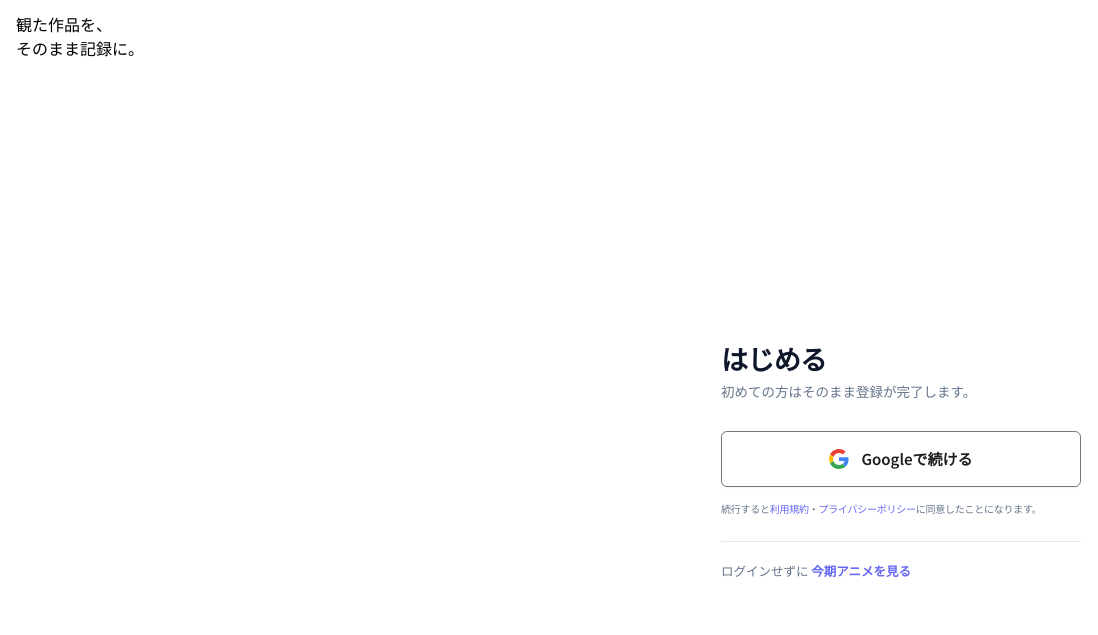
Test: SignInPage › 失敗時はエラーを表示し、再操作できる状態に戻す
This screenshot has width=1098, height=635.
Click the button "Googleで続ける".
click(901, 459)  # box [721,431,1081,487]
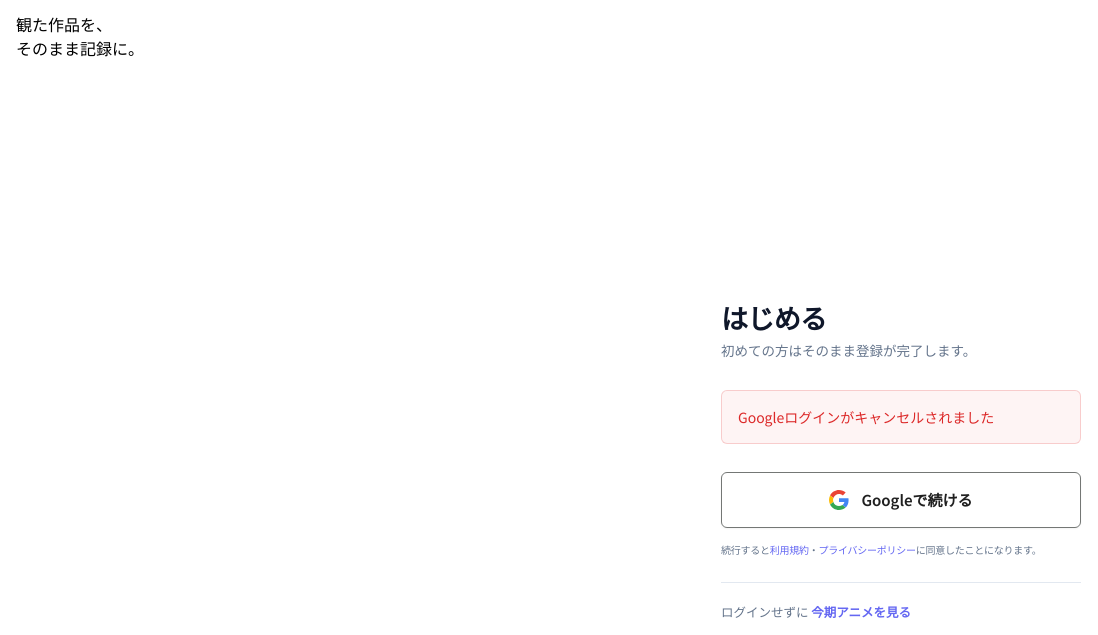
Expected: the button "Googleで続ける" is enabled, [721,472,1081,528]
Result: the text "Googleログインがキャンセルされました" is shown at [738,407,994,427]
